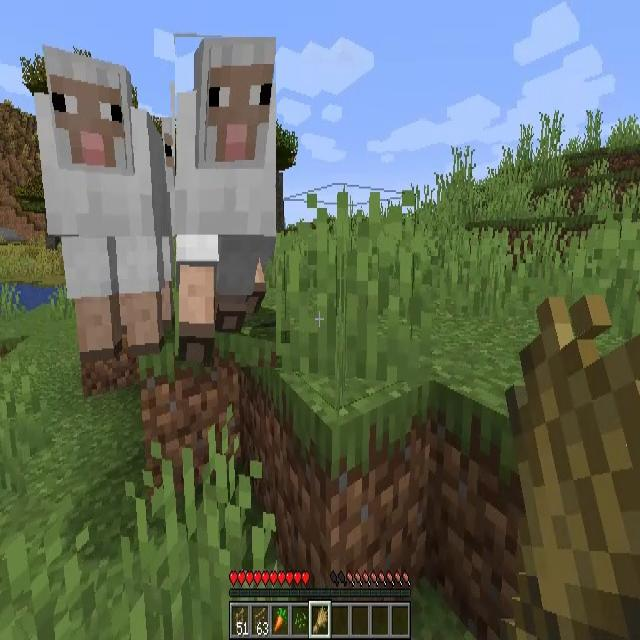sheep: (35, 45, 172, 353), (175, 37, 276, 367)
